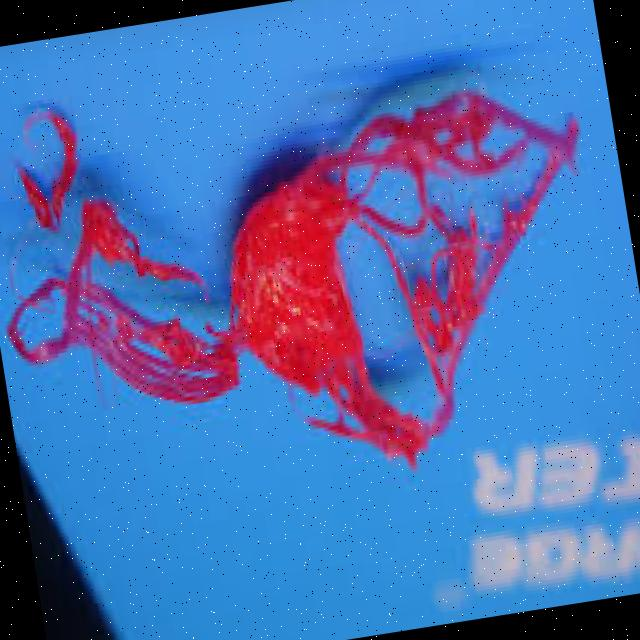spaghetti: (291, 105, 436, 254)
